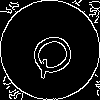Q: (25, 25, 86, 82)
